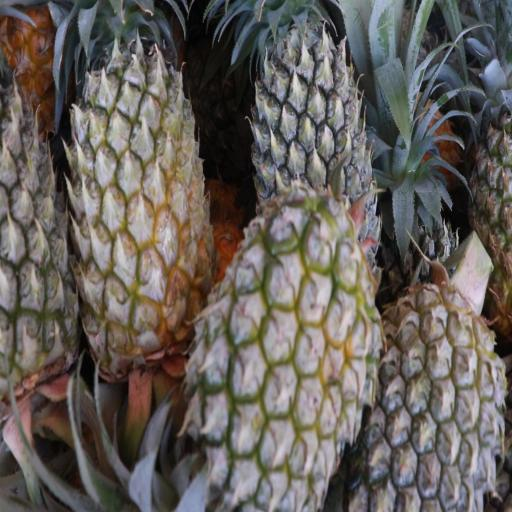------------------------------: (196, 197, 374, 512), (73, 0, 208, 367)
